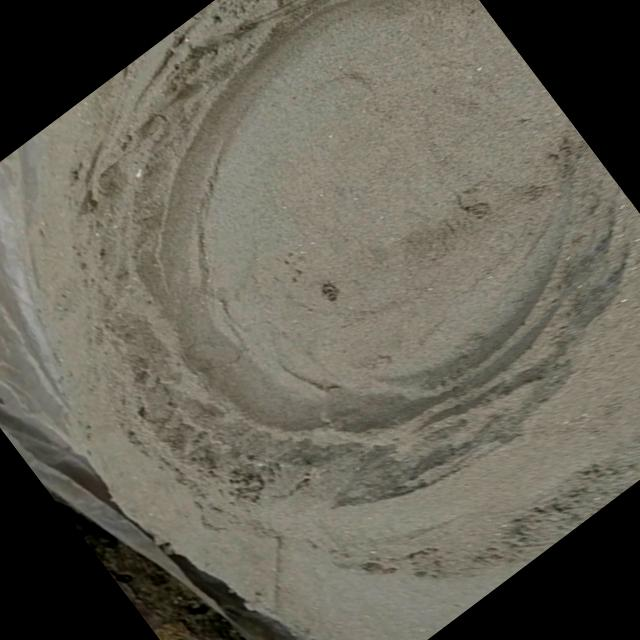C40: (157, 0, 560, 436)
